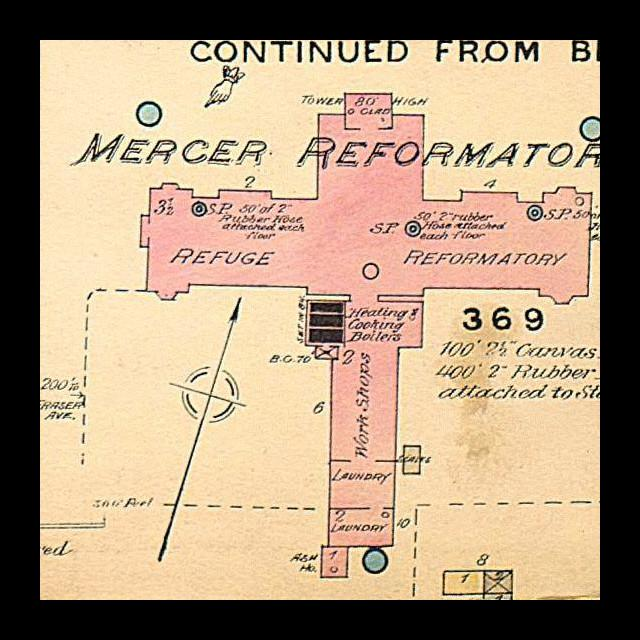building-footprints: (140, 94, 592, 546), (444, 571, 484, 594), (322, 546, 347, 578), (484, 570, 512, 593), (404, 446, 420, 474), (484, 593, 512, 600)
